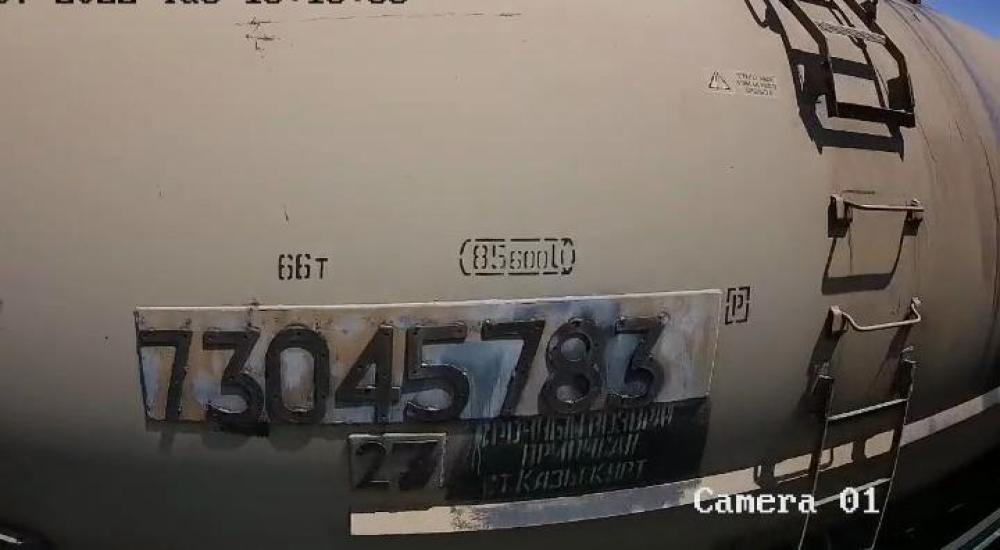Wagon-number: (139, 315, 670, 425)
